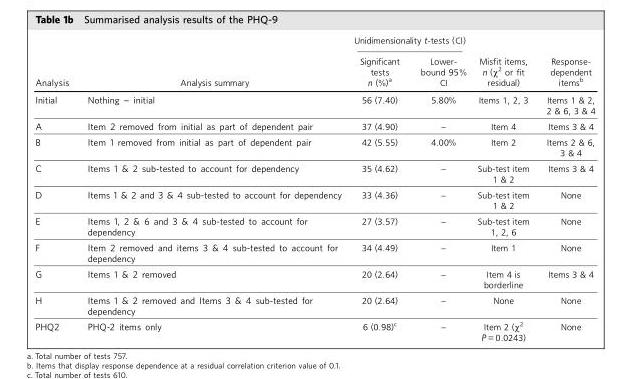table: (34, 34, 594, 342)
table column: (77, 34, 347, 342), (471, 34, 537, 342), (347, 34, 409, 342), (409, 34, 471, 342), (537, 34, 594, 342), (34, 34, 77, 342)
table column header: (34, 34, 594, 90)
table row: (34, 50, 594, 90), (34, 90, 594, 118), (34, 133, 594, 160), (34, 212, 594, 239), (34, 265, 594, 292), (34, 160, 594, 186), (34, 186, 594, 212), (34, 239, 594, 265), (34, 292, 594, 317), (34, 317, 594, 342), (34, 34, 594, 50), (34, 118, 594, 133)
table spanning cell: (77, 34, 347, 90), (471, 34, 537, 90), (537, 34, 594, 90), (34, 34, 77, 90), (347, 34, 471, 50)
